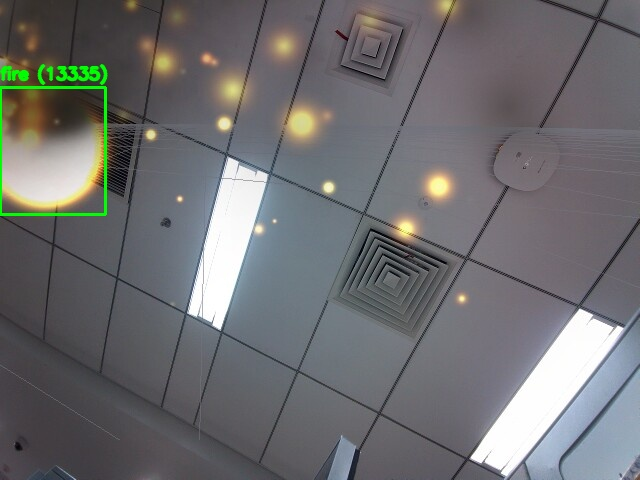fire: (0, 87, 105, 214)
